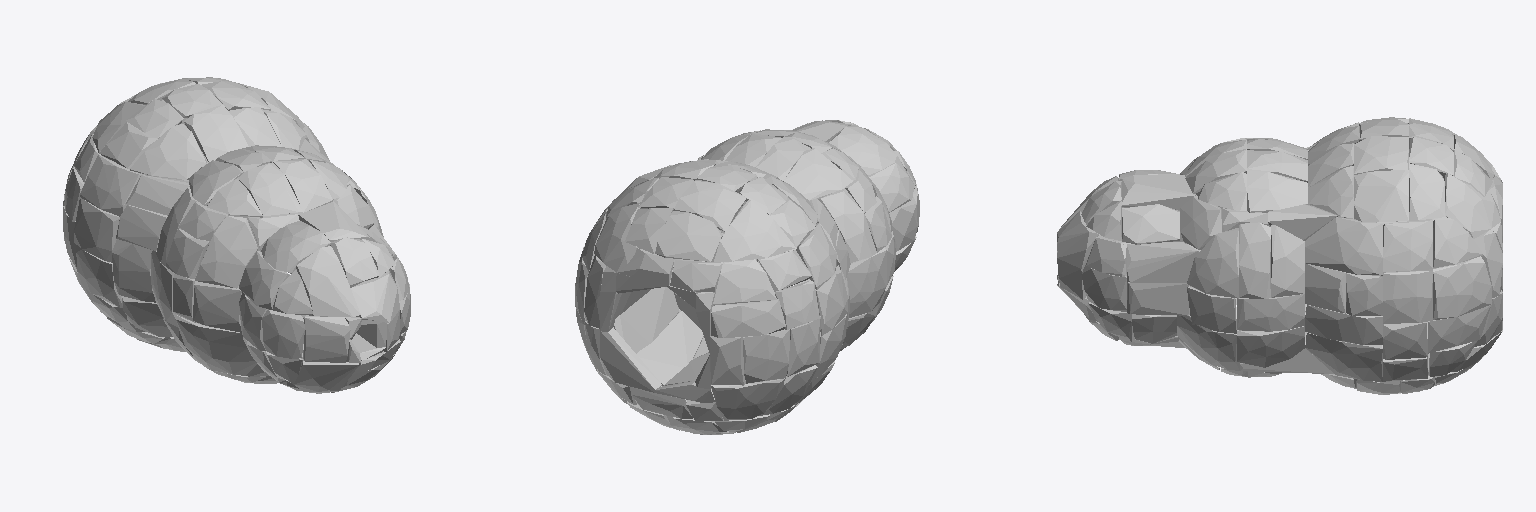
File: chew_toy_collision_vhacd.obj
3 views of the same model, side by side, from view 1: azimuth 30°, elevation 25°; view 2: azimuth 150°, elevation 25°; view 3: azimuth 270°, elevation 25° (orthographic).
Parts seen in each view (by area): view 1: convex_127, convex_124, convex_128, convex_47, convex_60, convex_49, convex_147, convex_112, convex_27, convex_116, convex_150, convex_59 (+28 smaller); view 2: convex_43, convex_77, convex_45, convex_148, convex_82, convex_46, convex_105, convex_83, convex_115, convex_120, convex_103, convex_24 (+28 smaller); view 3: convex_74, convex_101, convex_55, convex_23, convex_4, convex_68, convex_69, convex_70, convex_42, convex_52, convex_38, convex_37 (+28 smaller).
Boxes of the visible parts, box(x1,y1,x2,y2) form: convex_127: box(296, 246, 360, 316); convex_124: box(195, 216, 257, 288); convex_128: box(175, 315, 256, 375); convex_47: box(130, 124, 206, 179); convex_60: box(80, 155, 141, 215); convex_49: box(184, 105, 248, 161); convex_147: box(261, 221, 330, 272); convex_112: box(112, 239, 155, 302); convex_27: box(238, 162, 302, 215); convex_116: box(303, 315, 350, 362); convex_150: box(193, 281, 241, 332); convex_59: box(74, 197, 119, 262); convex_43: box(714, 200, 795, 261); convex_77: box(636, 310, 703, 385); convex_45: box(655, 211, 722, 261); convex_148: box(613, 287, 678, 352); convex_82: box(711, 298, 785, 337); convex_46: box(674, 180, 746, 231); convex_105: box(743, 329, 789, 383); convex_83: box(713, 259, 776, 305); convex_115: box(600, 327, 661, 392); convex_120: box(817, 188, 876, 262); convex_103: box(711, 378, 785, 420); convex_24: box(783, 148, 852, 200); convex_74: box(1305, 217, 1382, 275); convex_101: box(1433, 256, 1491, 319); convex_55: box(1354, 170, 1408, 221); convex_23: box(1187, 228, 1238, 298); convex_4: box(1127, 242, 1198, 282); convex_68: box(1383, 271, 1432, 323); convex_69: box(1383, 219, 1432, 271); convex_70: box(1305, 333, 1382, 381); convex_42: box(1239, 222, 1270, 298); convex_52: box(1445, 173, 1500, 238); convex_38: box(1237, 294, 1304, 331); convex_37: box(1305, 305, 1382, 344).
Bounding box in the file's own units: 0.0444 × 0.0444 × 0.0718.